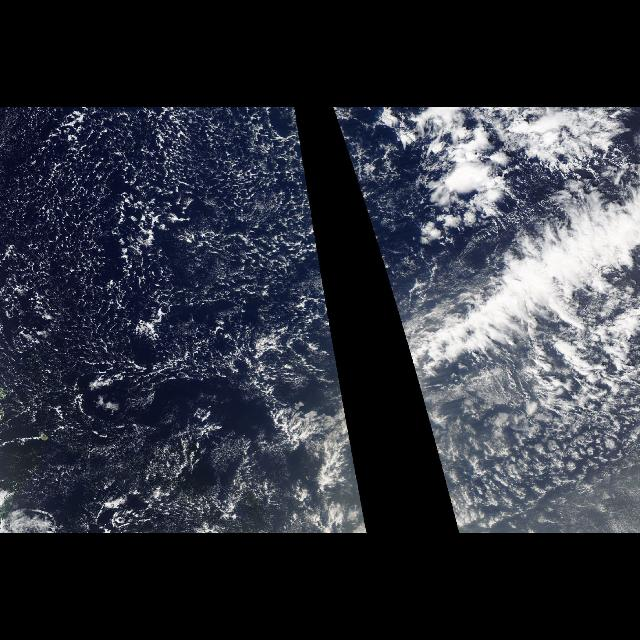Fish: (390, 112, 638, 354)
Gravel: (1, 108, 326, 398)
